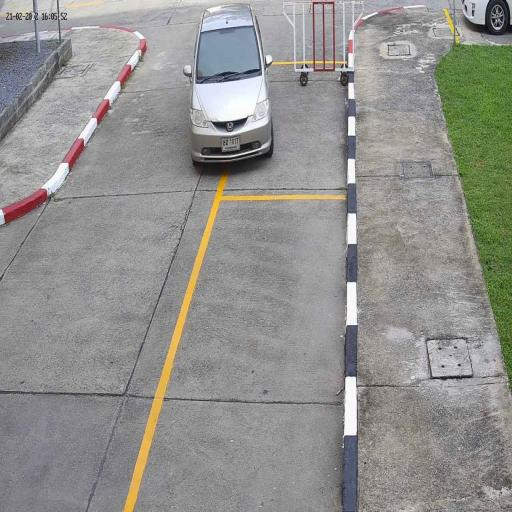car: (188, 6, 276, 168)
